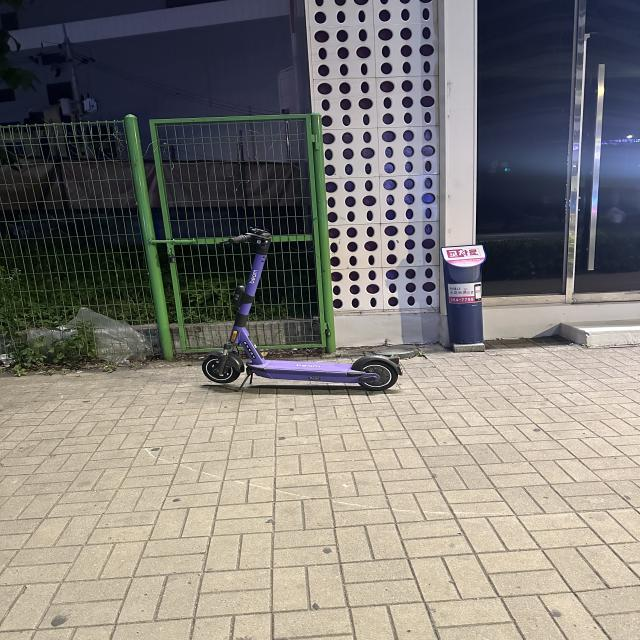kick-board: (202, 229, 402, 390)
sidewalk: (2, 340, 638, 640)
